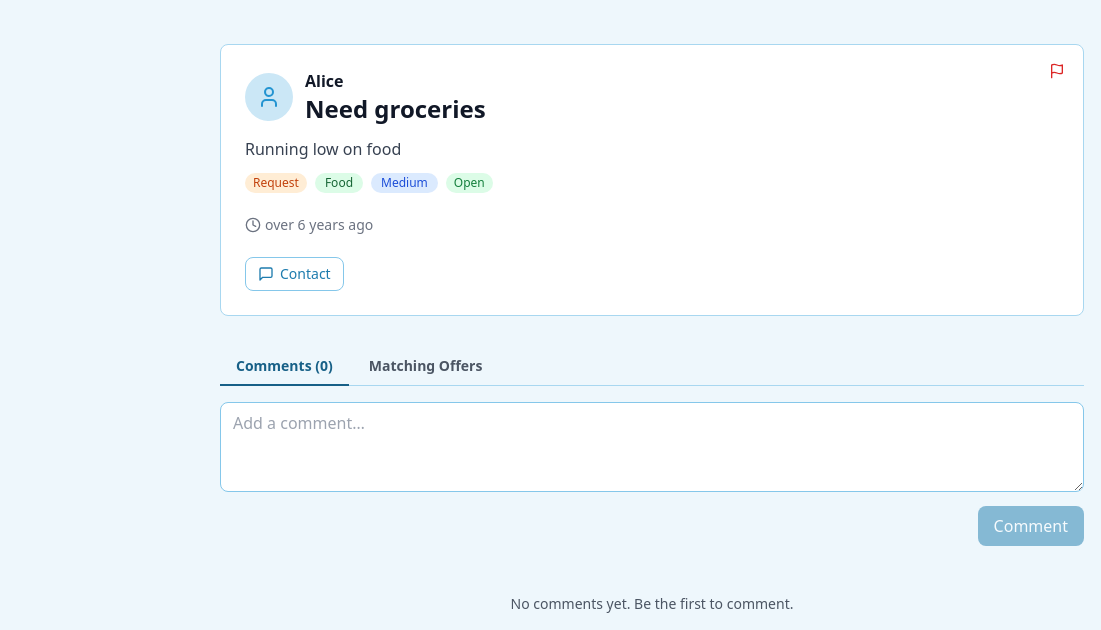
Test: PostDetailPage — Contact button › navigates to messages with a draft pre-filled with the post title
Click the button "Contact": (294, 274) [245,257,344,291]
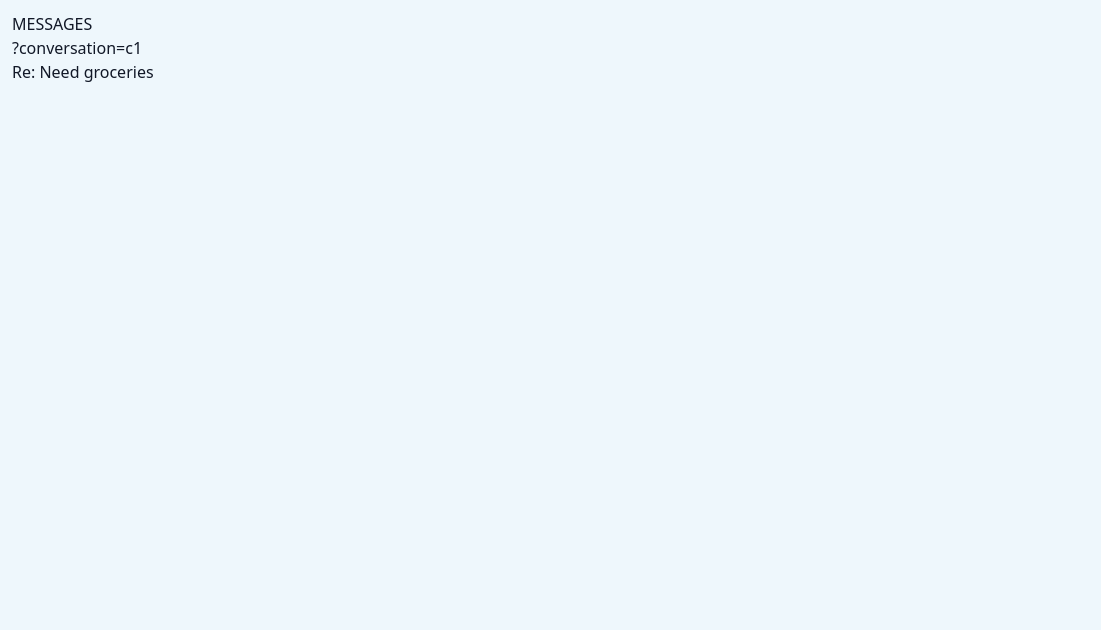
Result: the text "MESSAGES" is shown at [12,13,92,35]
Result: the text with test id "messages-search" reads "?conversation=c1" at [12,37,142,59]
Result: the text with test id "messages-draft" reads "Re: Need groceries" at [12,61,154,83]
